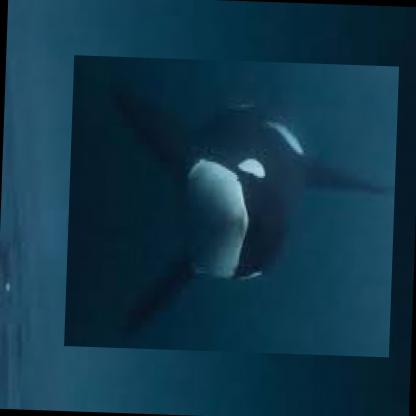killer_whale: (63, 56, 399, 358)
